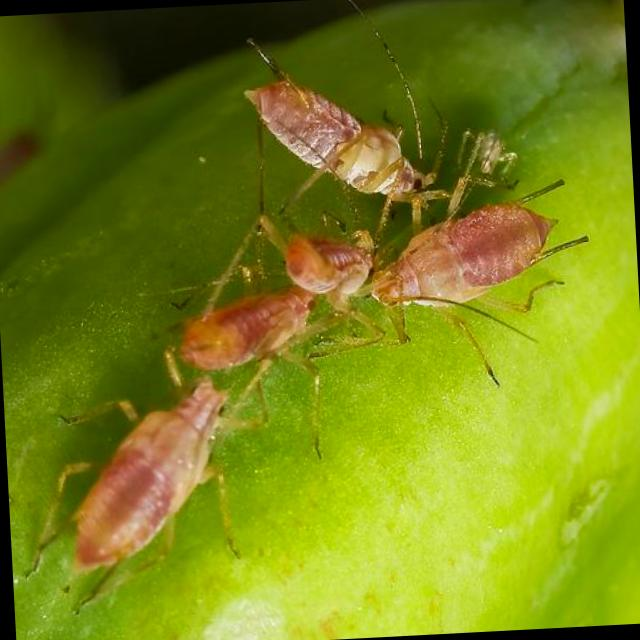Aphids: (50, 362, 261, 604), (235, 47, 452, 215), (374, 196, 580, 334)
